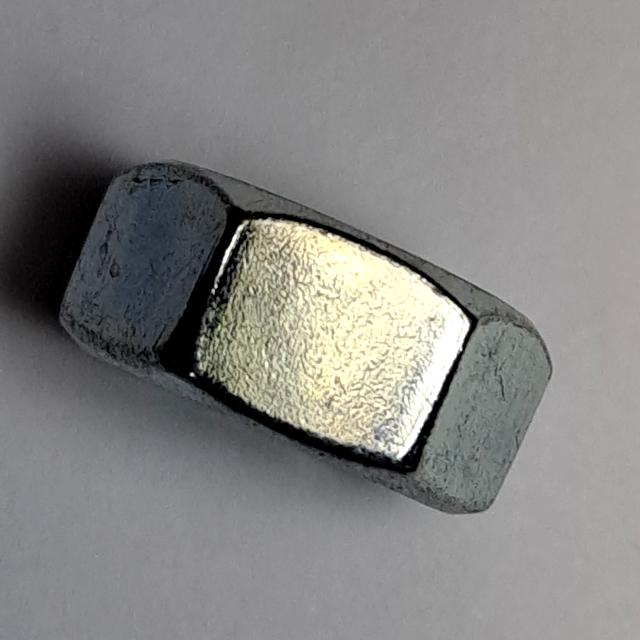Side_Excellent: (49, 145, 564, 533)
